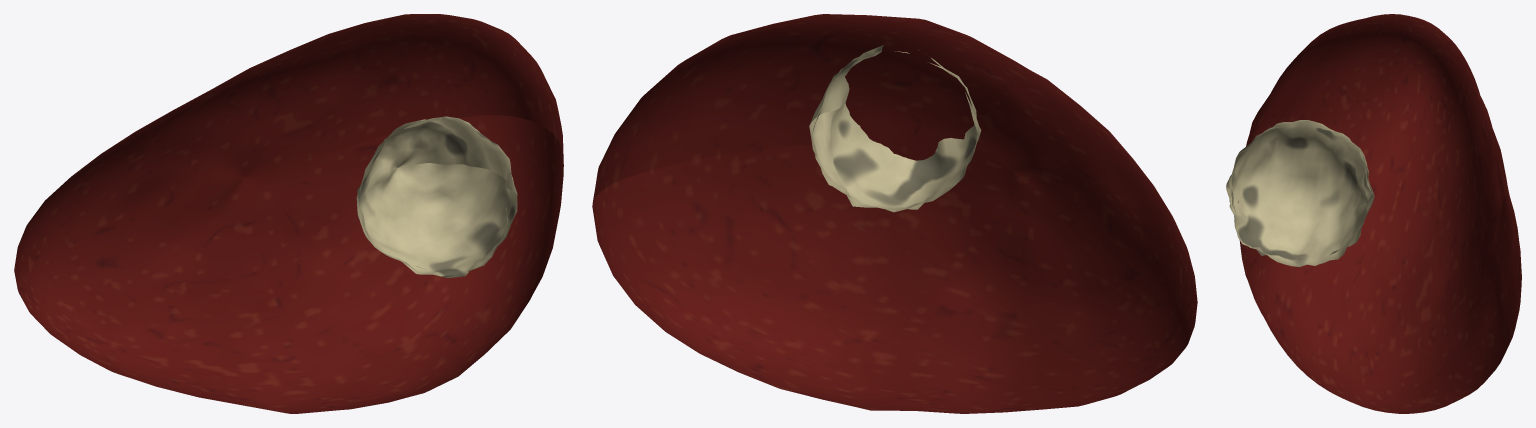
File: liver_tumor.glb
3 views of the same model, side by side, from view 1: azimuth 30°, elevation 25°; view 2: azimuth 150°, elevation 25°; view 3: azimuth 270°, elevation 25° (orthographic). The views are drawn at different scales.
Size of the model in its own units: 4.05 by 2.53 by 2.06.
Materials: 2 (2 with a texture image).
